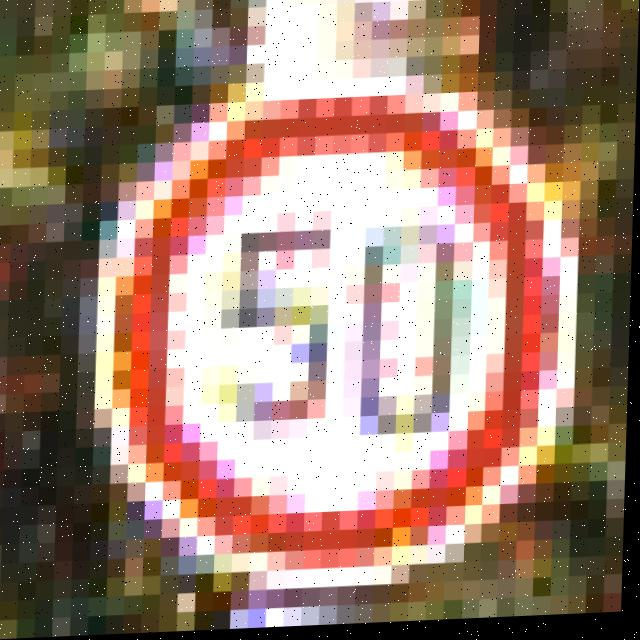speed_limit_50: (34, 76, 585, 585)
